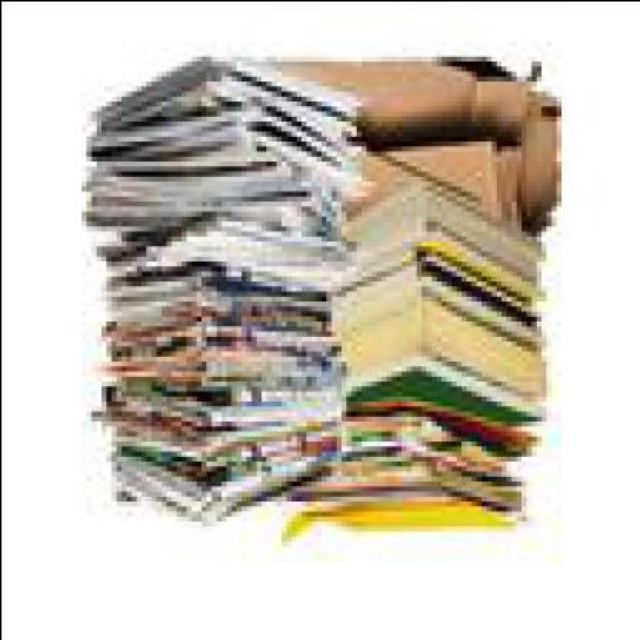CARDBOARD: (266, 60, 566, 240), (350, 145, 530, 240)
PAPER: (95, 120, 350, 215), (94, 215, 366, 300), (105, 70, 370, 155), (90, 165, 350, 250), (340, 306, 555, 406), (115, 445, 340, 530), (340, 195, 540, 290), (114, 310, 346, 390), (345, 355, 560, 430), (336, 249, 544, 320), (290, 454, 530, 514), (336, 405, 544, 470), (346, 414, 526, 486), (105, 385, 340, 440), (110, 275, 330, 330), (326, 295, 534, 350), (260, 130, 375, 210), (284, 505, 524, 540)
